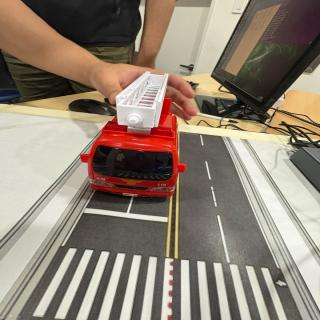Fire_truck: (80, 72, 186, 196)
